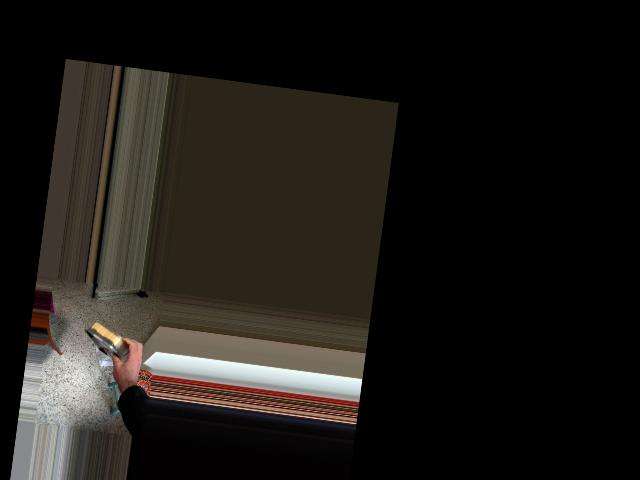cheese: (77, 310, 155, 375)
